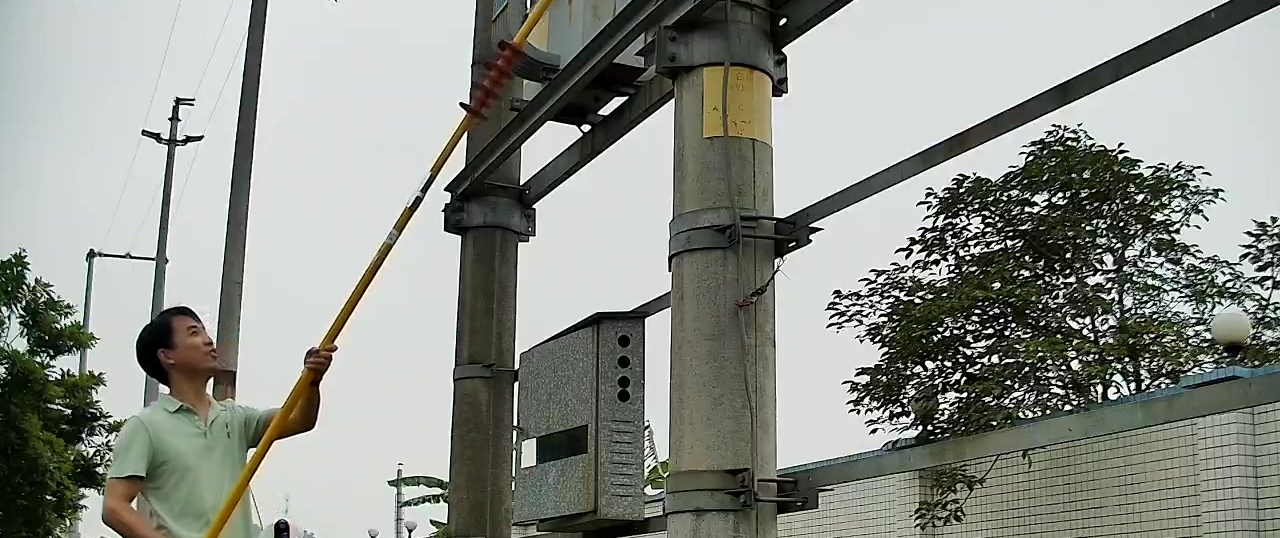安全帽、工作服均未穿戴的工作人员: (99, 304, 339, 538)
